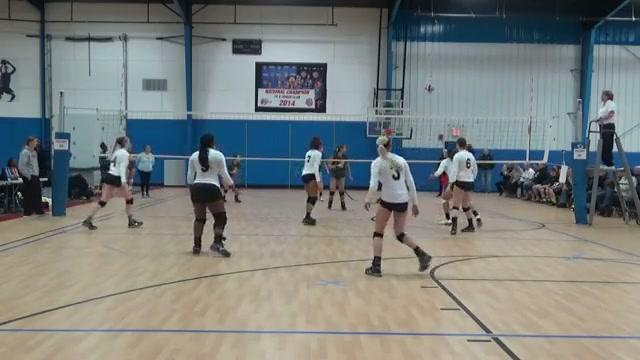ball: (424, 82, 435, 93)
